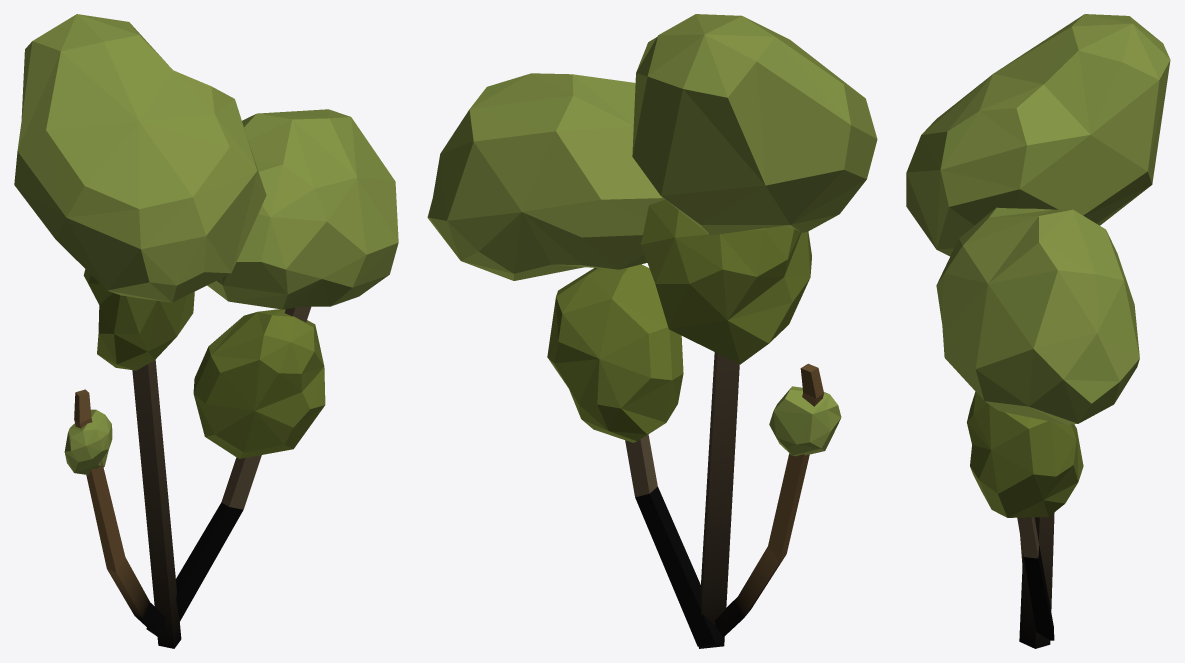
The model's file is EA03_Nature_Bush_01a.glb.
3 renders of one model, left to right at view 1: azimuth 30°, elevation 25°; view 2: azimuth 150°, elevation 25°; view 3: azimuth 270°, elevation 25°, orthographic. The views are drawn at different scales.
Parts seen in each view (by area): view 1: EA03_Nature_Bush_01a; view 2: EA03_Nature_Bush_01a; view 3: EA03_Nature_Bush_01a.
Boxes of the visible parts, x1=… form: EA03_Nature_Bush_01a: x1=14, y1=14, x2=398, y2=648; EA03_Nature_Bush_01a: x1=427, y1=14, x2=877, y2=648; EA03_Nature_Bush_01a: x1=906, y1=14, x2=1170, y2=648.
Bounding box in the file's own units: 2.32 × 3.57 × 1.43.
1 material, 1 textured.
